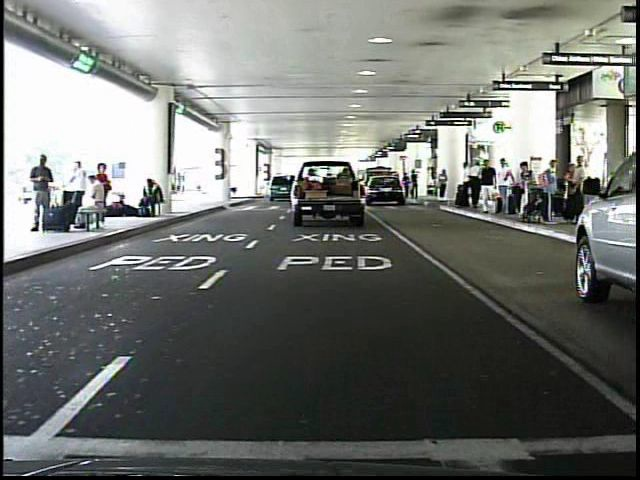person: (30, 152, 60, 237), (475, 157, 500, 224), (496, 157, 516, 220), (456, 157, 477, 212), (436, 166, 452, 206), (401, 170, 412, 203), (411, 169, 421, 204)
